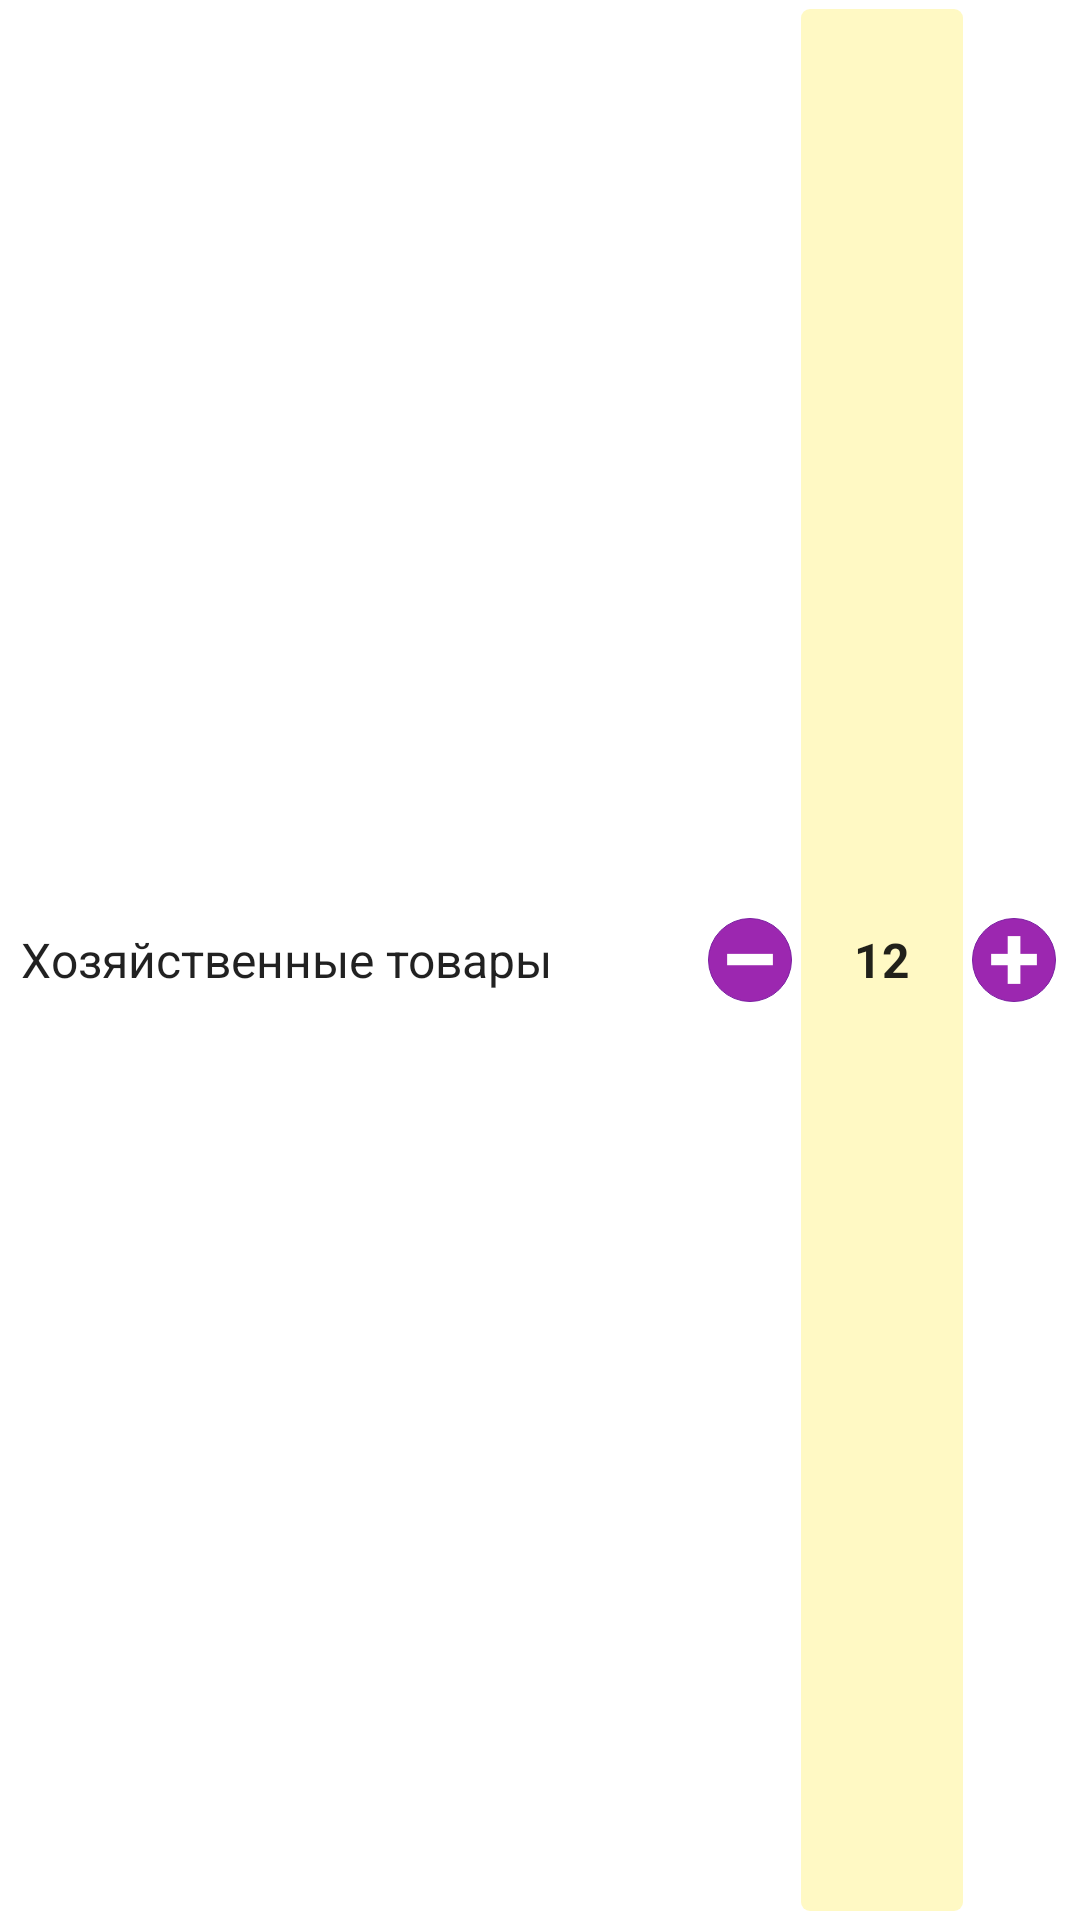

Screen size 1080 x 1920. Icon name, then its center in pixels as (x=x, y=y):
minus: (x=750, y=960)
plus: (x=1014, y=960)
